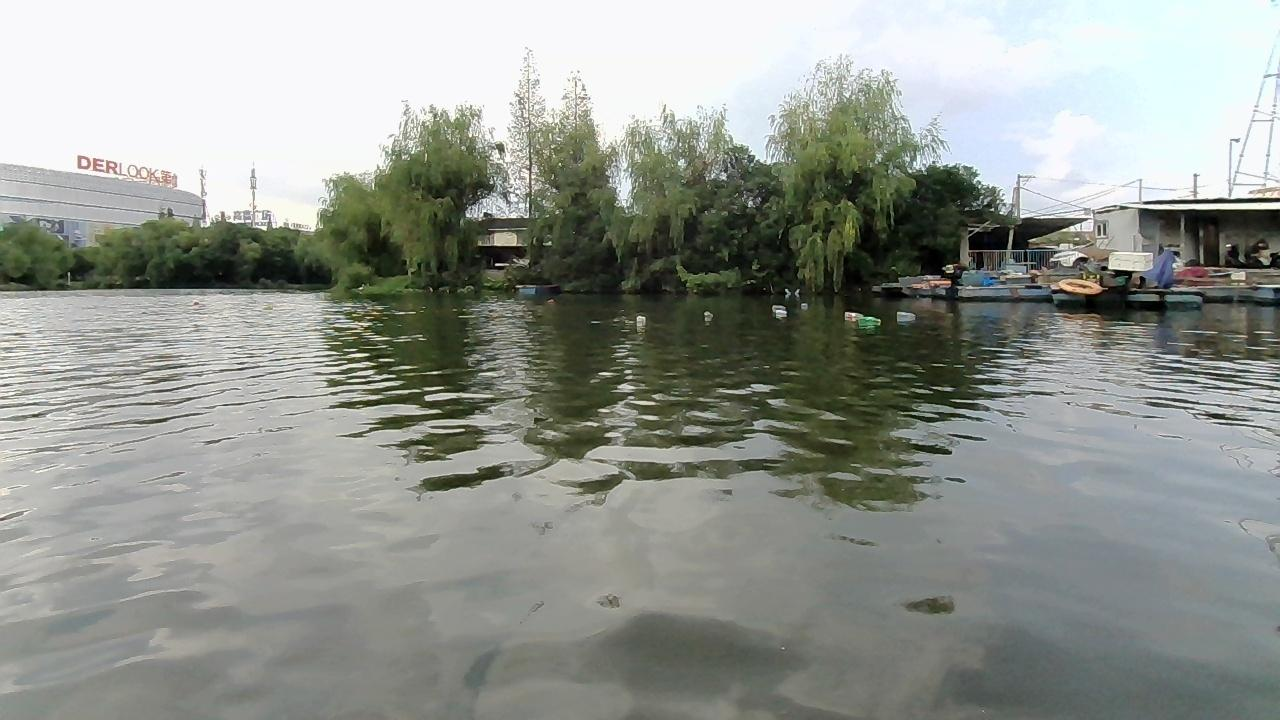bottle: (860, 315, 880, 328), (847, 307, 865, 319), (632, 312, 648, 324), (774, 310, 787, 322), (703, 309, 713, 324), (897, 312, 913, 320), (799, 303, 808, 312)
